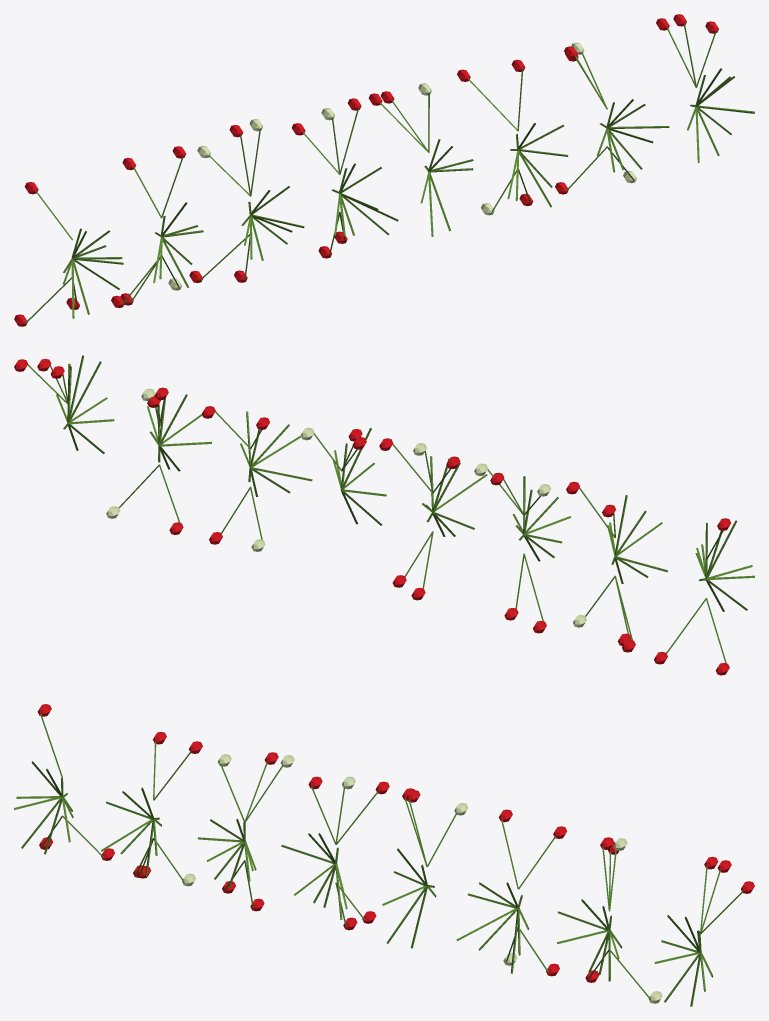
The model's file is r0c0_rest.obj.
The picture shows the model from 3 angles, top to bottom: view 1: azimuth 30°, elevation 25°; view 2: azimuth 150°, elevation 25°; view 3: azimuth 330°, elevation 25°; orthographic projection. The views are drawn at different scales.
Parts seen in each view (by area): view 1: r0c0_rest; view 2: r0c0_rest; view 3: r0c0_rest.
Part boxes in pixels (x1,y1,x2,y2): r0c0_rest: [14, 14, 754, 326]; r0c0_rest: [14, 355, 754, 675]; r0c0_rest: [14, 704, 754, 1006].
Bounding box in the file's own units: 1.96 × 0.4034 × 0.2522.
